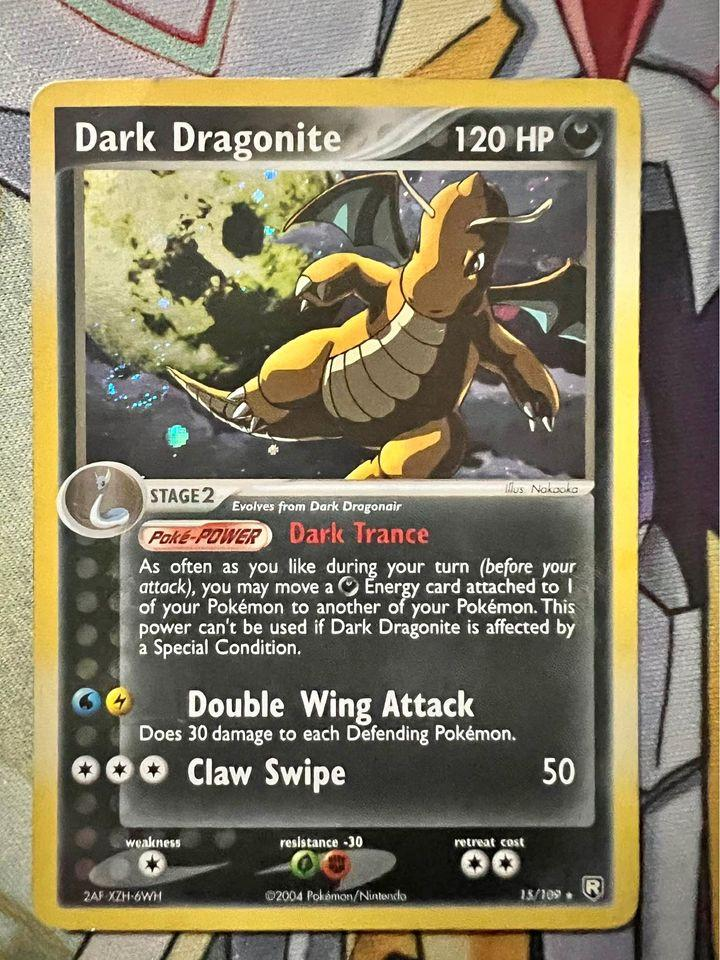card: (29, 74, 644, 938)
